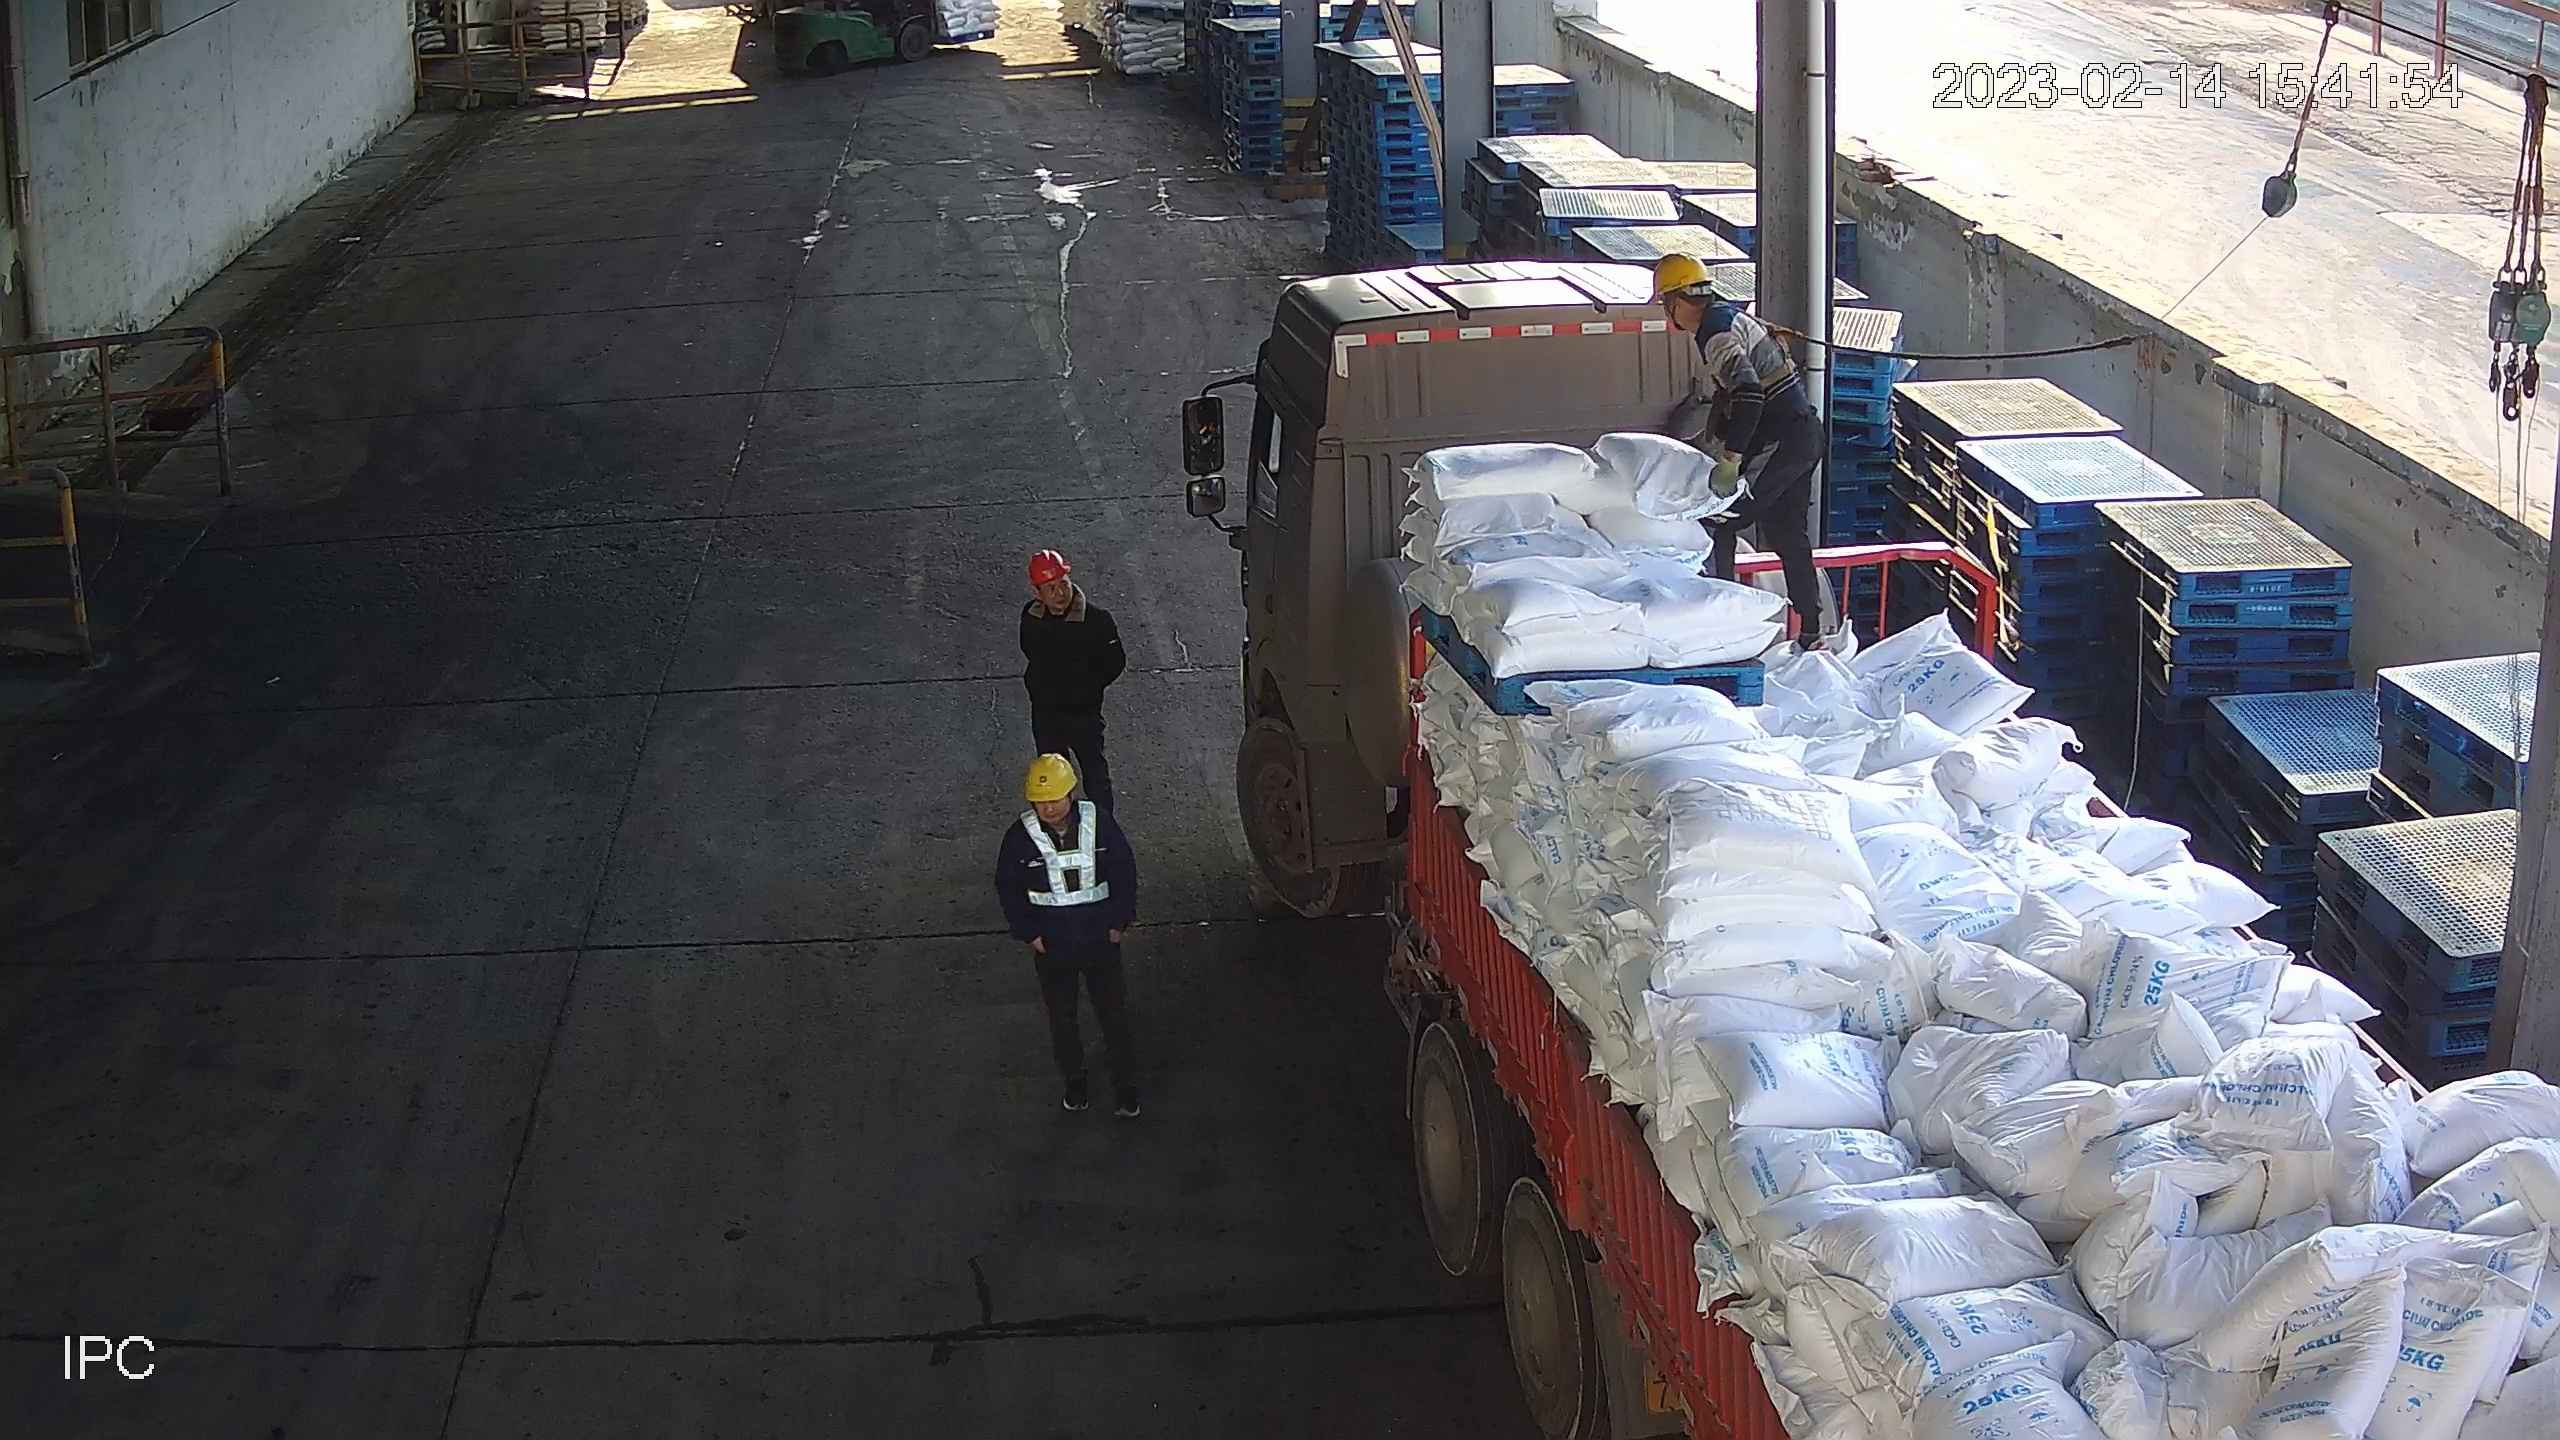belt: (1016, 798, 1114, 907), (1705, 301, 1814, 391)
head: (1642, 251, 1783, 353), (997, 752, 1127, 846), (1013, 550, 1122, 634)
helmet: (1644, 250, 1713, 301), (1024, 751, 1080, 803), (1025, 548, 1071, 585)
people: (1643, 251, 1835, 656), (992, 752, 1145, 1121), (1016, 550, 1129, 815)
truck: (1230, 260, 2560, 1440)
